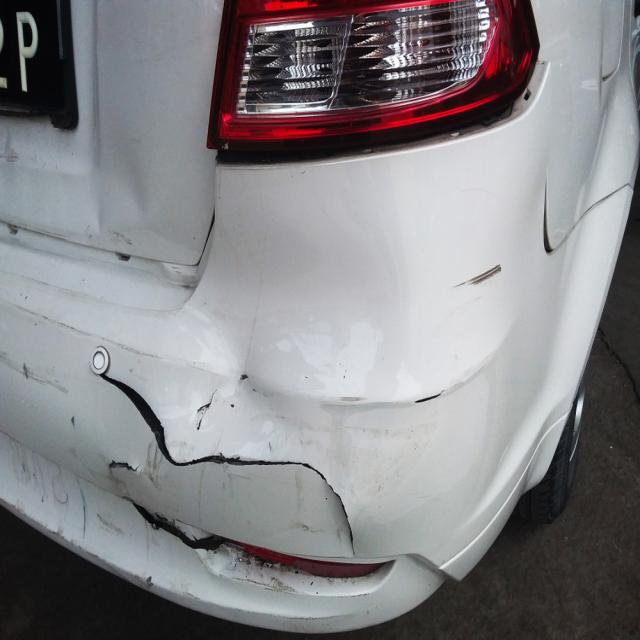crack: (100, 373, 355, 561), (127, 498, 233, 553), (107, 460, 140, 473)
dent: (167, 216, 407, 466), (78, 122, 149, 231)
scratch: (0, 269, 161, 394), (454, 262, 504, 290), (413, 391, 444, 406)
